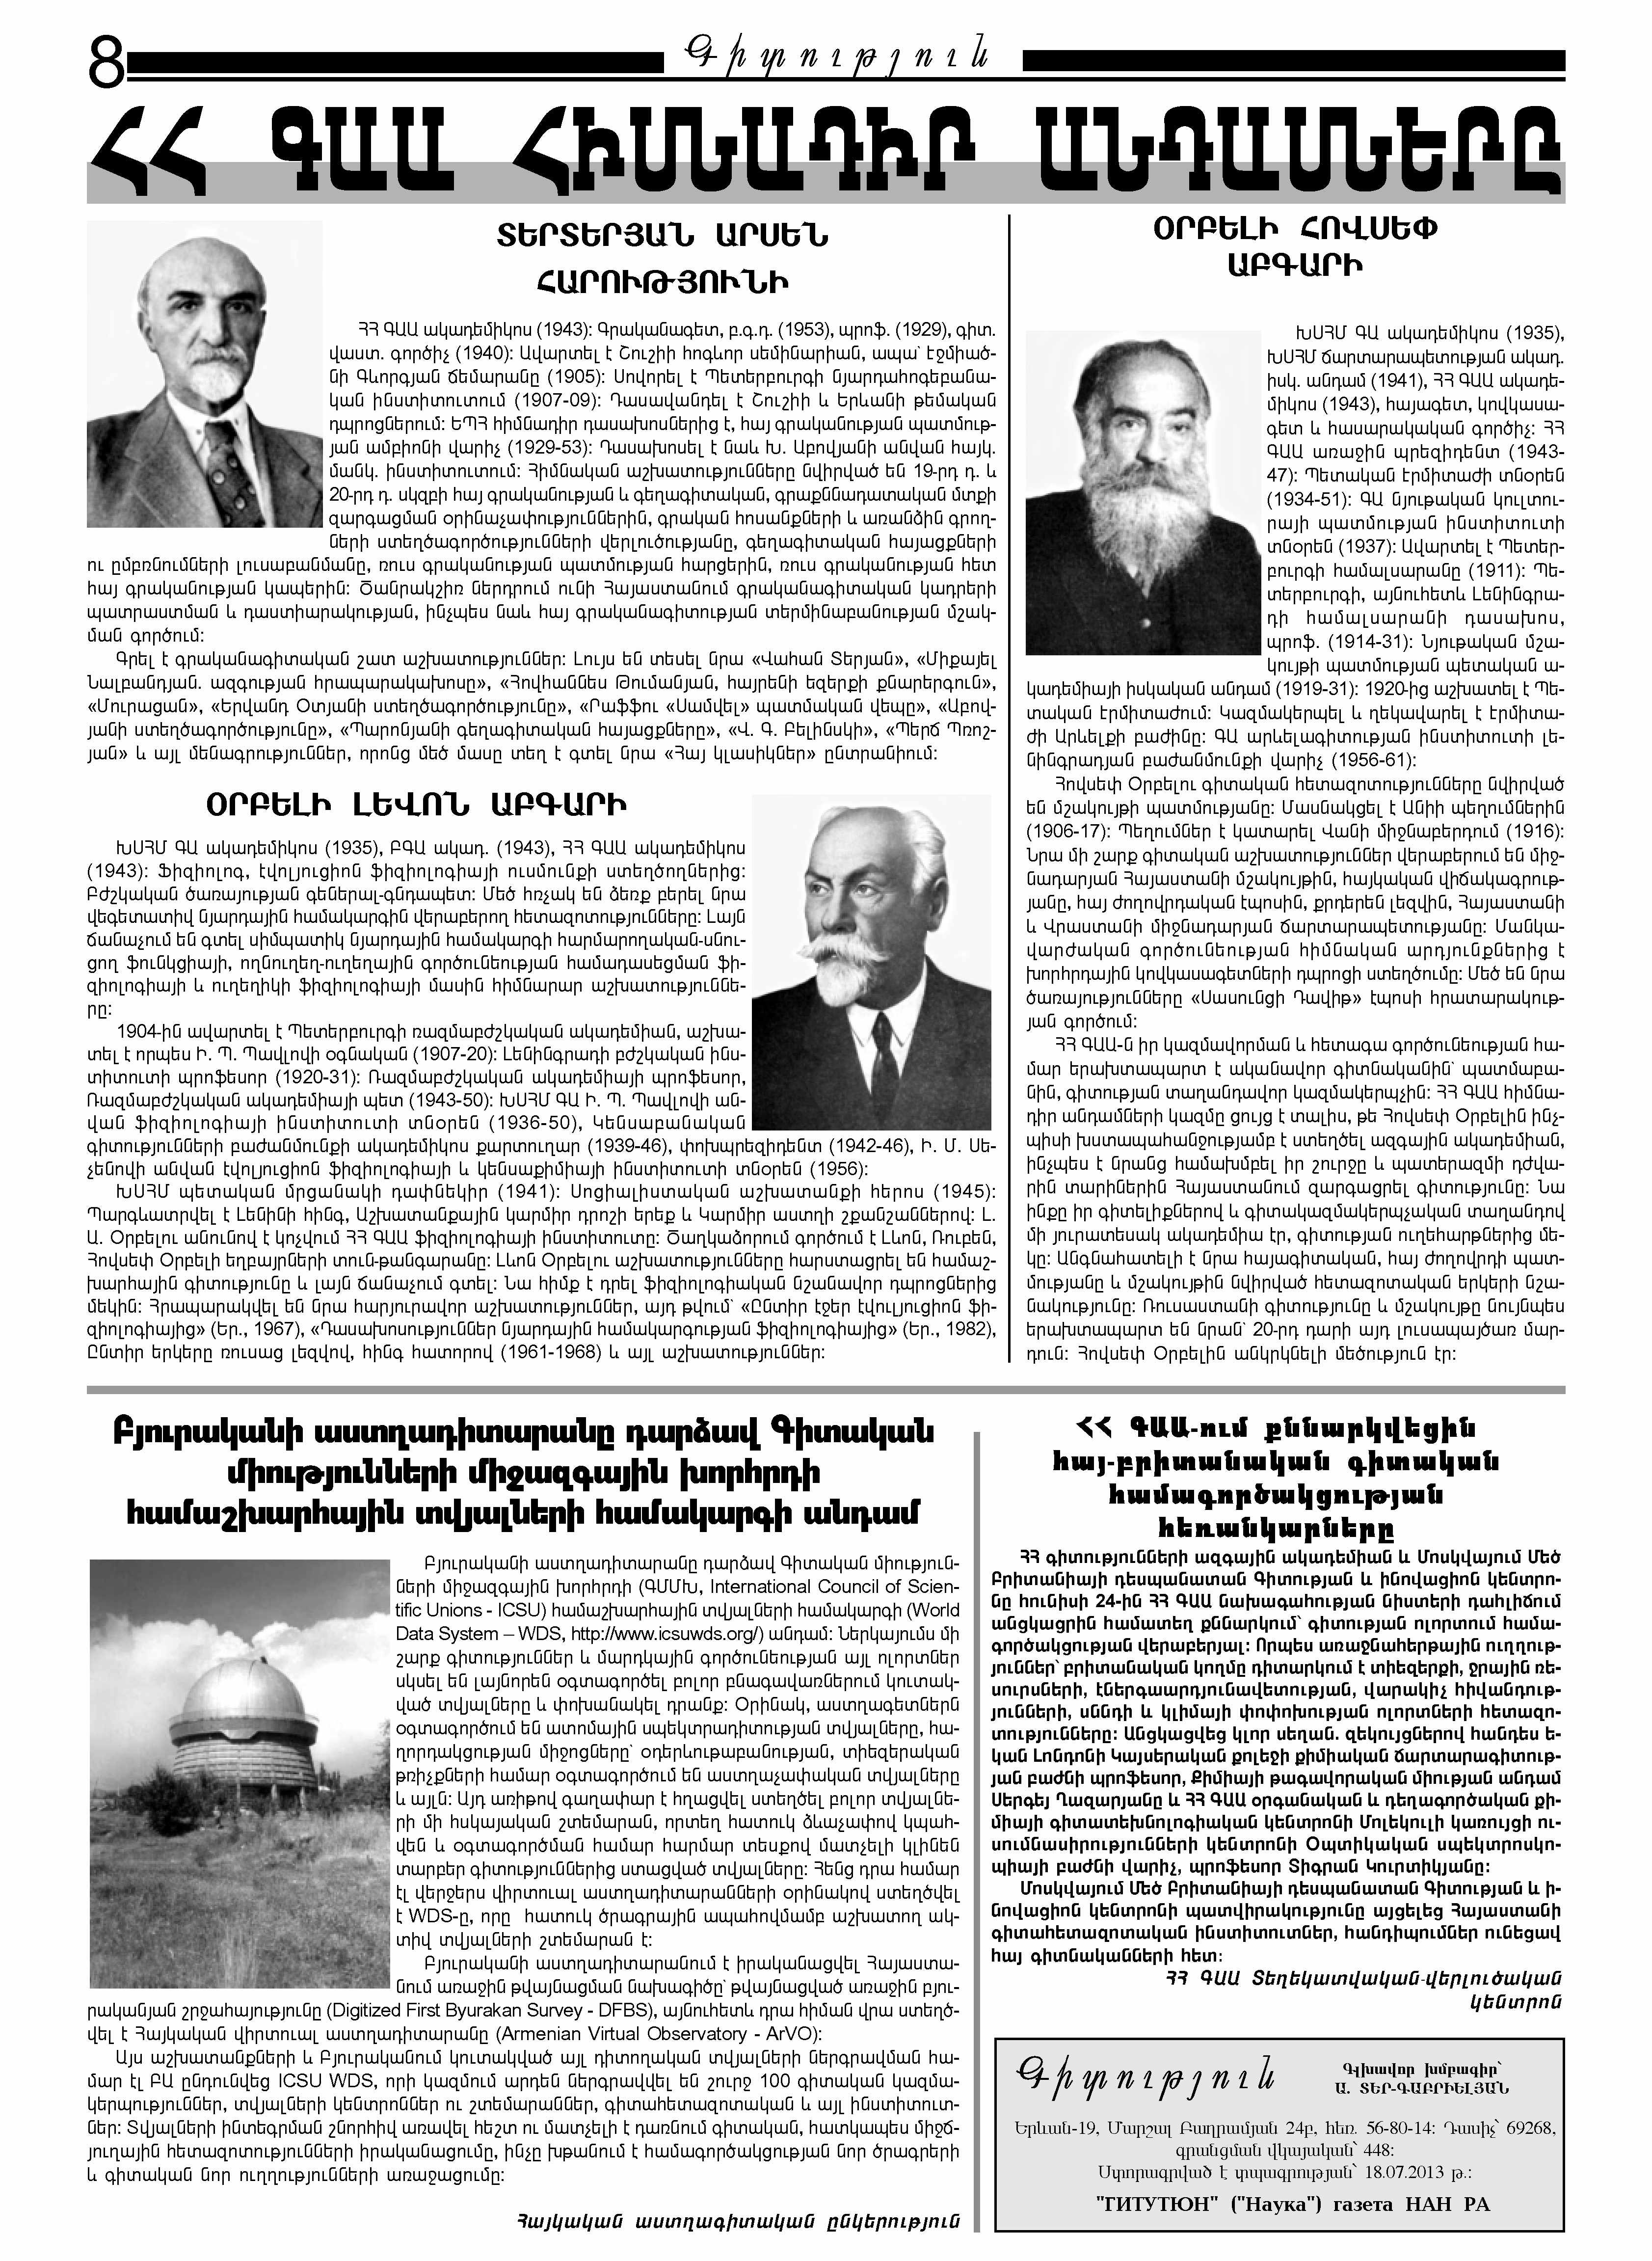table: (750, 779, 1004, 1145), (1013, 316, 1276, 660), (68, 211, 330, 521)
